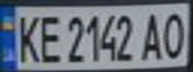1: (81, 11, 100, 62)
2: (115, 10, 139, 62), (63, 11, 84, 63)
4: (100, 10, 121, 62)
A: (139, 9, 166, 61)
E: (33, 11, 63, 64)
K: (12, 10, 42, 64)
O: (160, 7, 190, 60)
